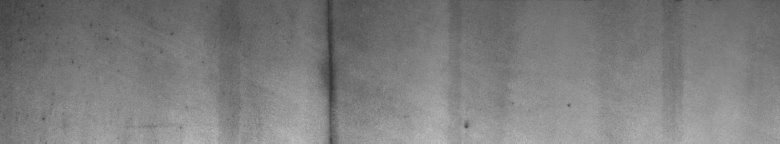hd: (320, 4, 344, 136)
